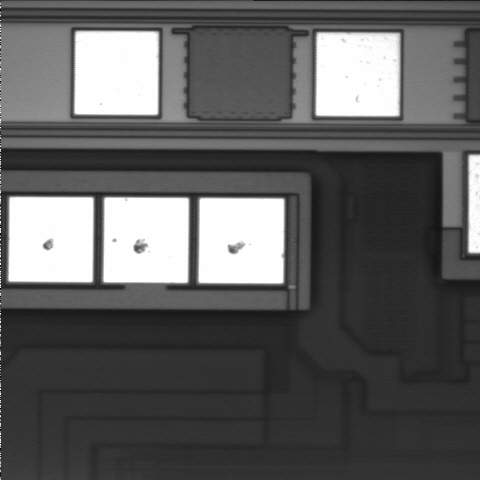pad: (103, 198, 189, 283), (8, 197, 93, 282), (199, 198, 284, 283), (75, 31, 158, 115), (316, 33, 399, 116)
